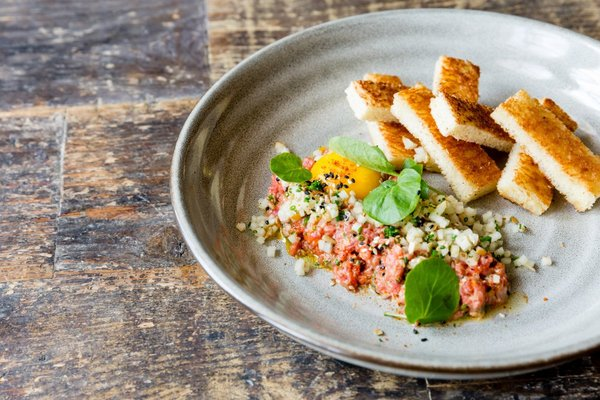sushi: (169, 6, 599, 382)
